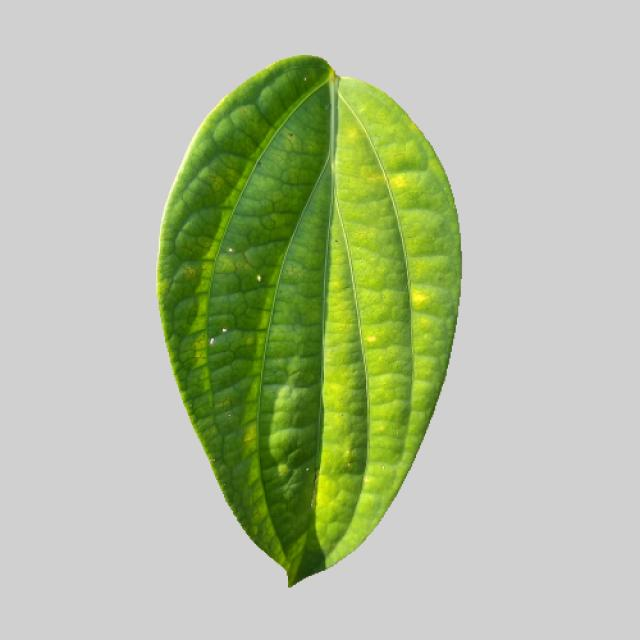healthy: (154, 55, 466, 590)
